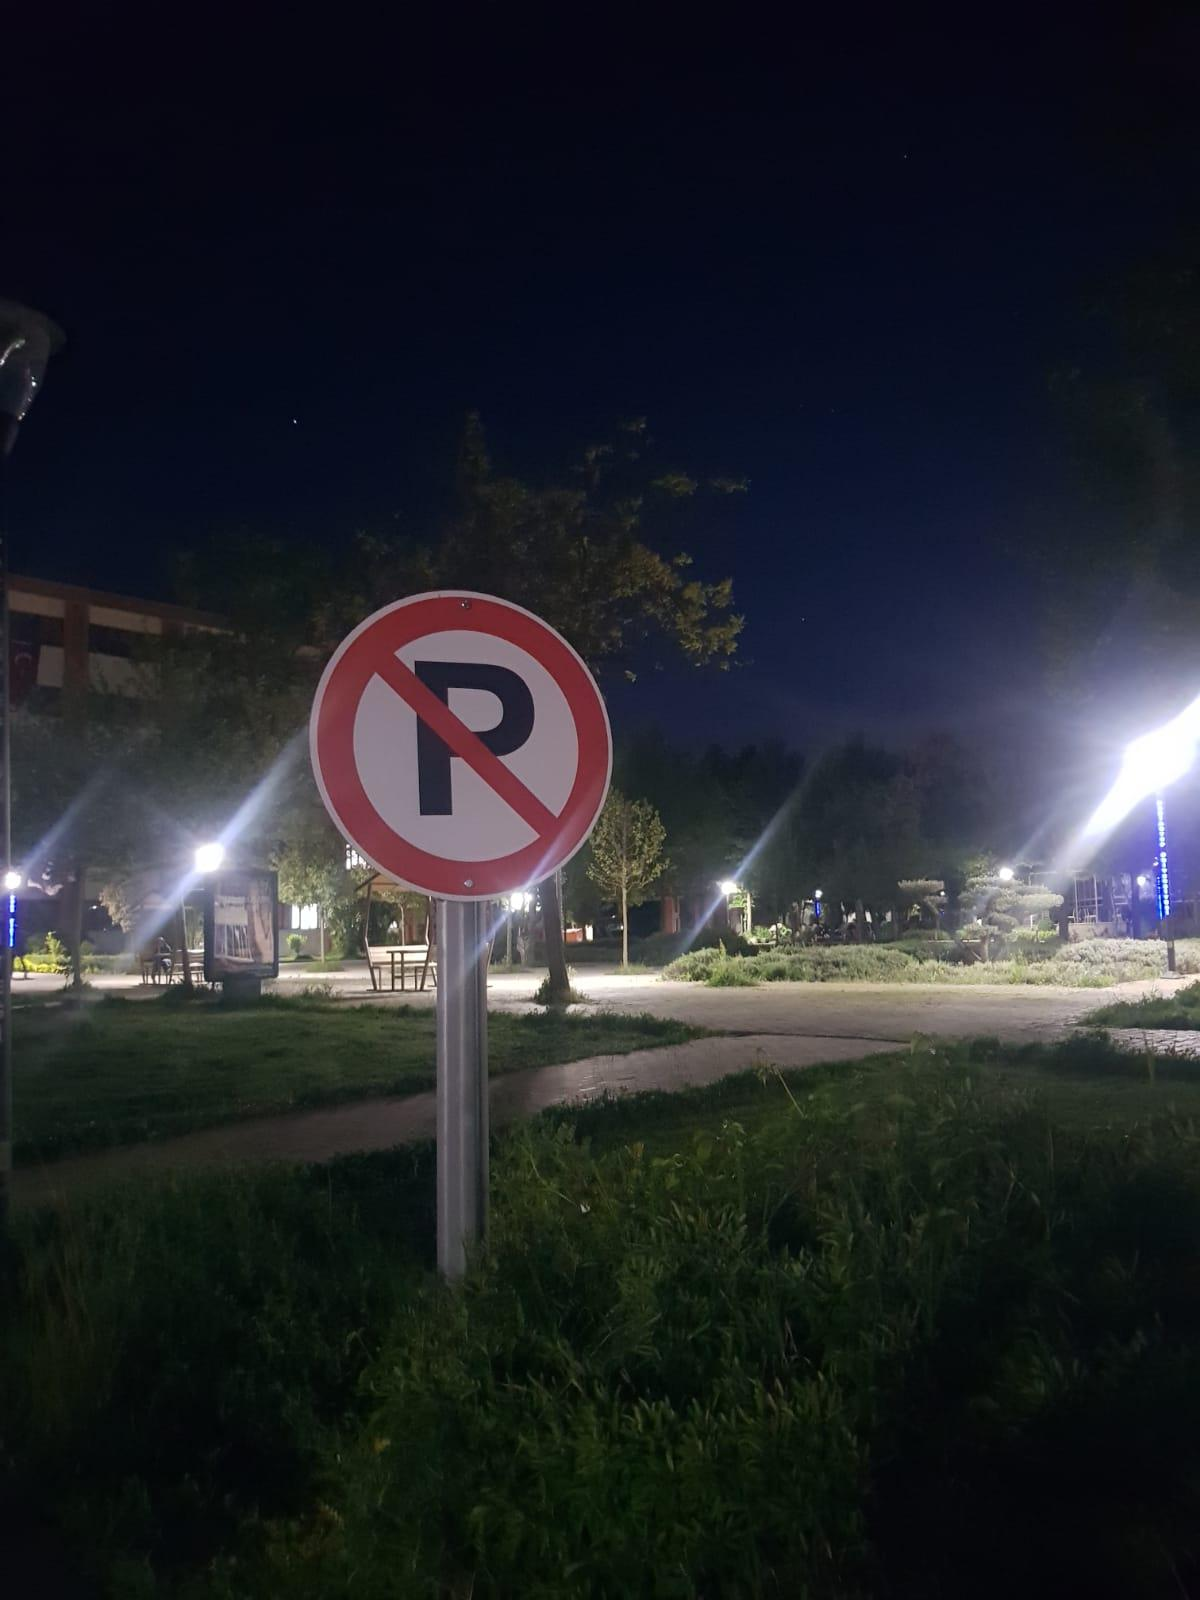nopark: (292, 562, 634, 919)
